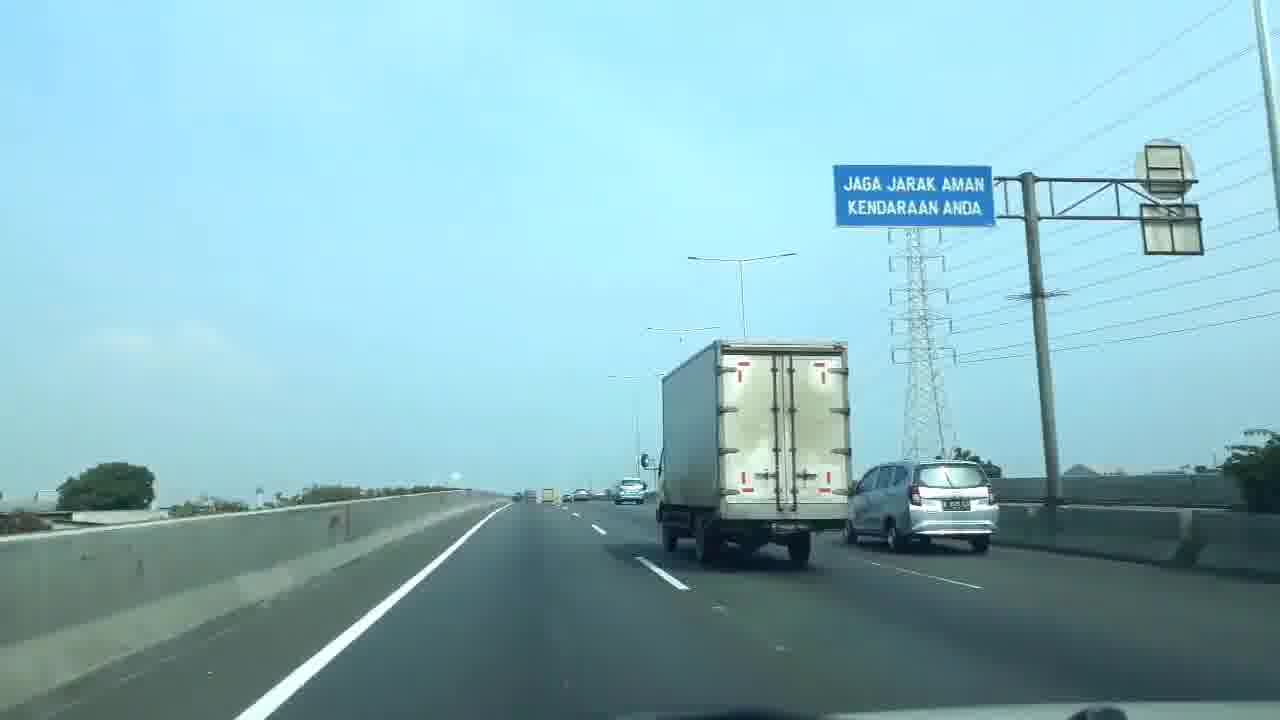plate_positive: (943, 499, 971, 510)
